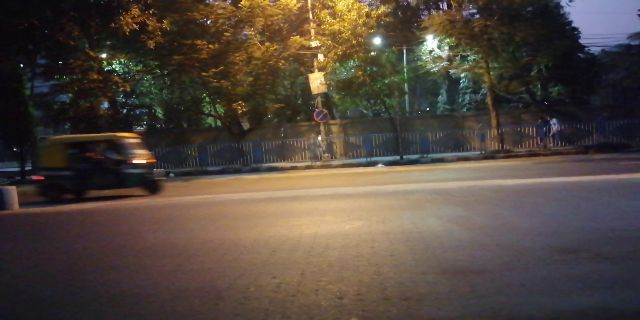Autorickshaw: (30, 130, 164, 197)
